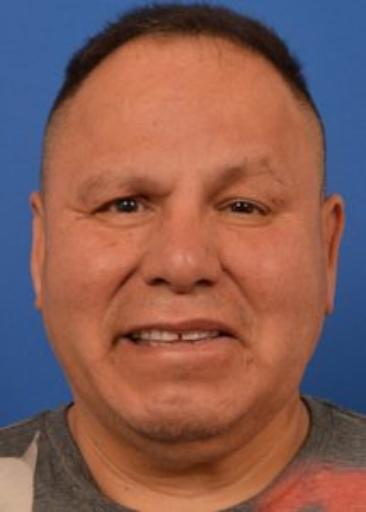left_eye: (219, 200, 274, 220)
left_lip_corner: (231, 327, 247, 351)
right_eye: (97, 195, 155, 218)
right_lip_corner: (112, 329, 136, 344)
